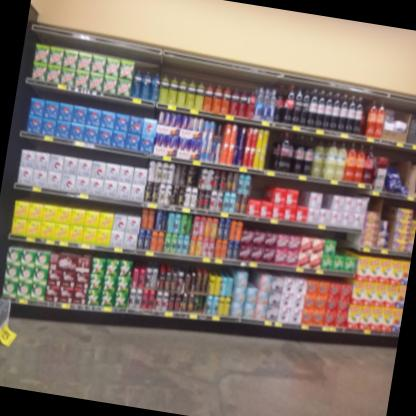empty_space: (250, 174, 270, 200), (264, 132, 275, 167), (335, 233, 348, 254)
